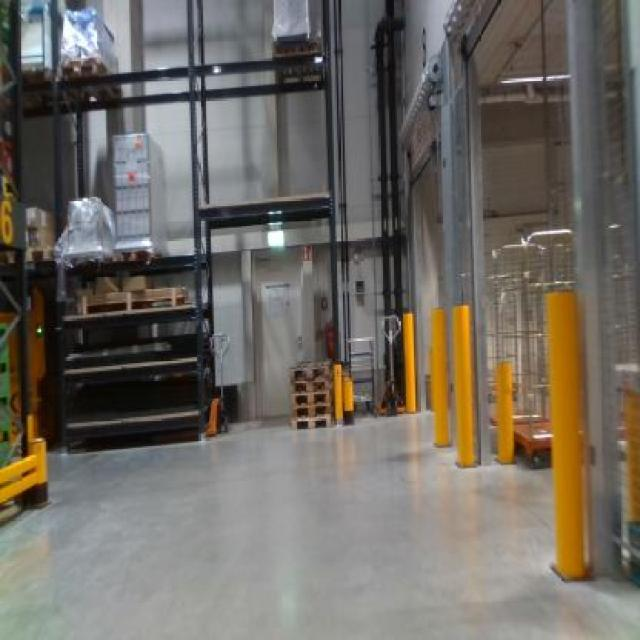pallet: (290, 412, 334, 438), (286, 398, 338, 419), (282, 364, 336, 383), (285, 375, 337, 394), (290, 388, 332, 409)
